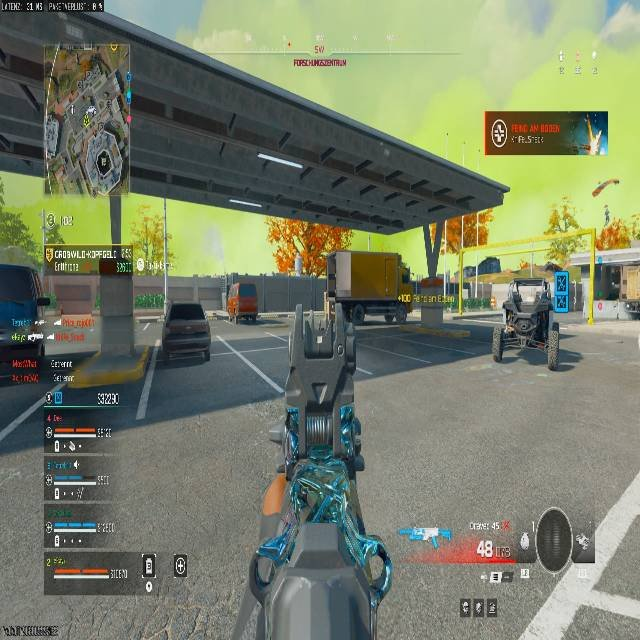player: (498, 287, 527, 361), (504, 290, 521, 318)
